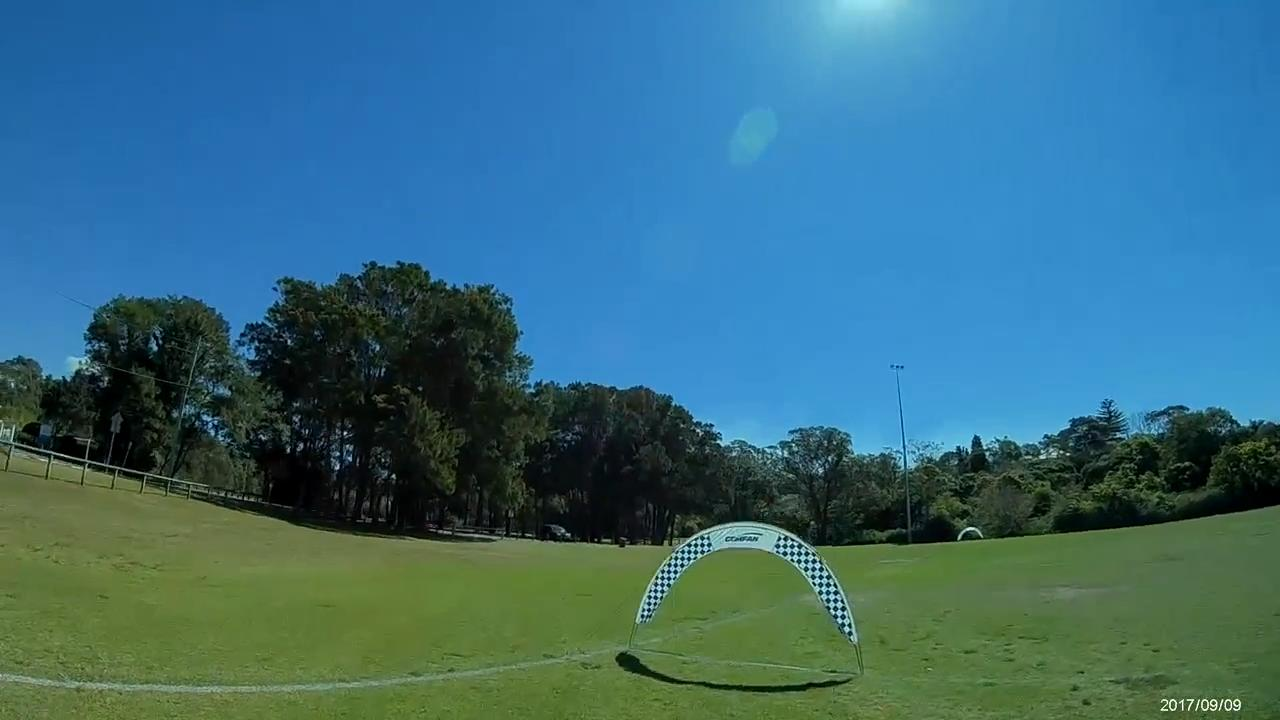gate: (635, 519, 860, 650), (954, 525, 985, 543)
